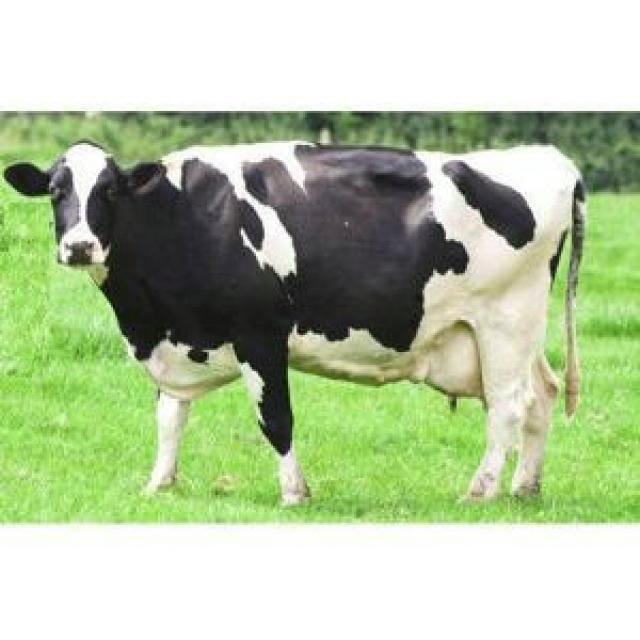cow: (5, 142, 585, 504)
